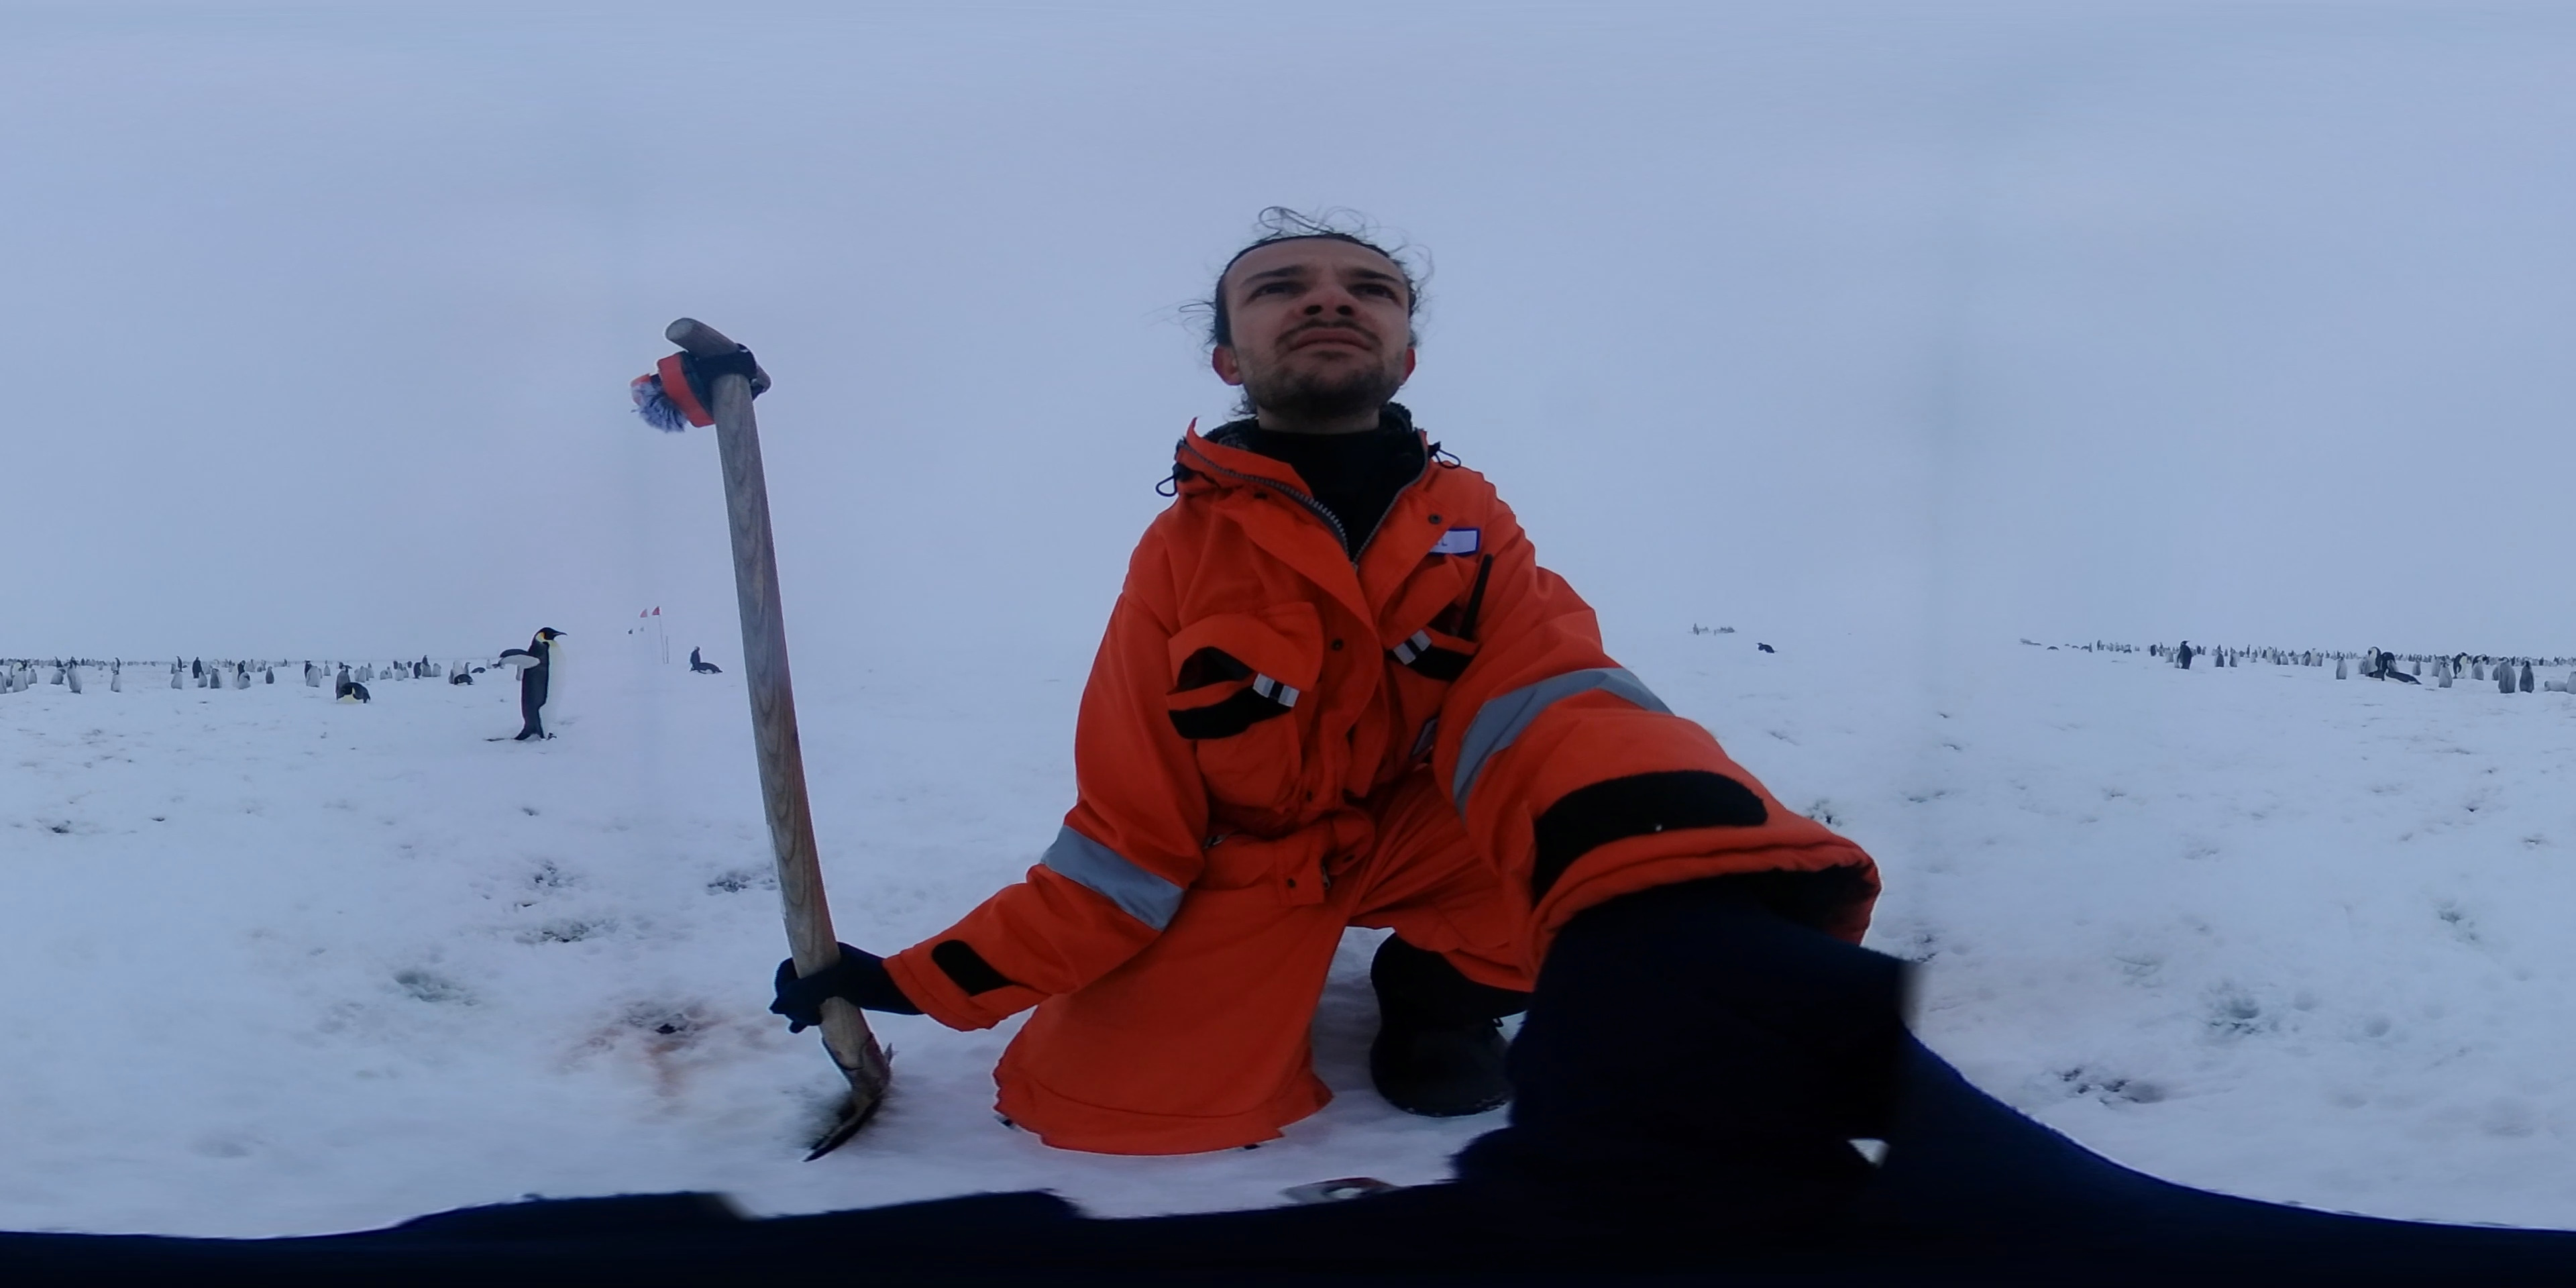adult_standing_penguin: (494, 623, 568, 743), (2451, 649, 2469, 682), (2366, 644, 2384, 675), (2178, 641, 2193, 672), (2380, 651, 2397, 677), (692, 644, 705, 670)
adult_toboggan_penguin: (333, 680, 373, 705), (2377, 665, 2417, 687), (687, 660, 724, 674), (1751, 642, 1779, 655), (453, 674, 478, 688)
juvenile_penguin: (2495, 654, 2517, 695), (2515, 659, 2537, 697), (66, 662, 85, 697), (333, 664, 355, 695), (2540, 677, 2568, 697), (306, 665, 324, 688), (13, 665, 28, 693), (107, 669, 122, 695), (169, 670, 187, 692), (2336, 655, 2349, 683), (233, 670, 253, 688), (261, 665, 278, 683), (212, 669, 222, 687)
researcher: (797, 209, 1927, 1170)
